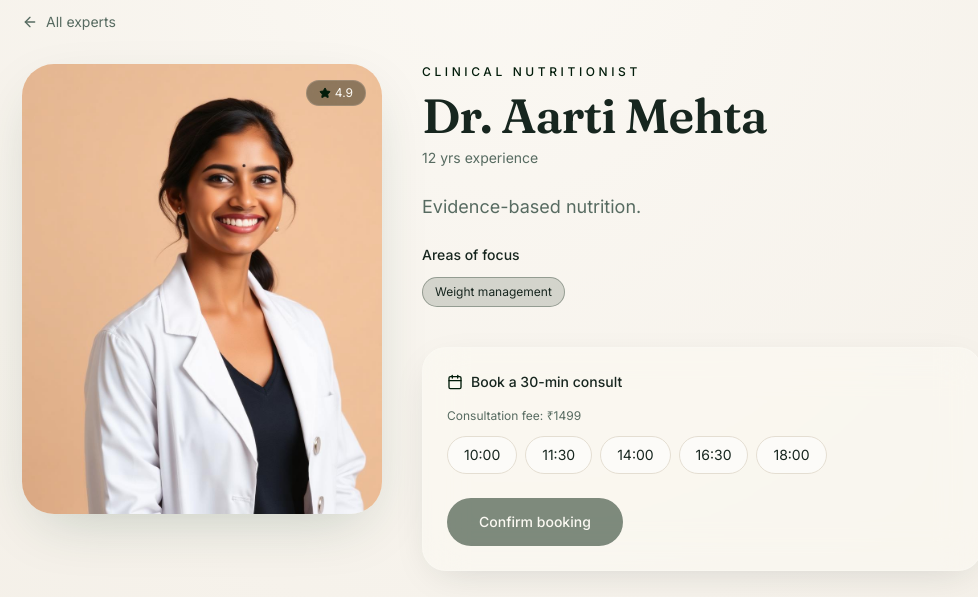
Scenario: ExpertDetail › creates a consultation, opens Razorpay, and verifies payment before showing success
Click the button "10:00" at (482, 455), box x1=447 y1=436 x2=517 y2=474
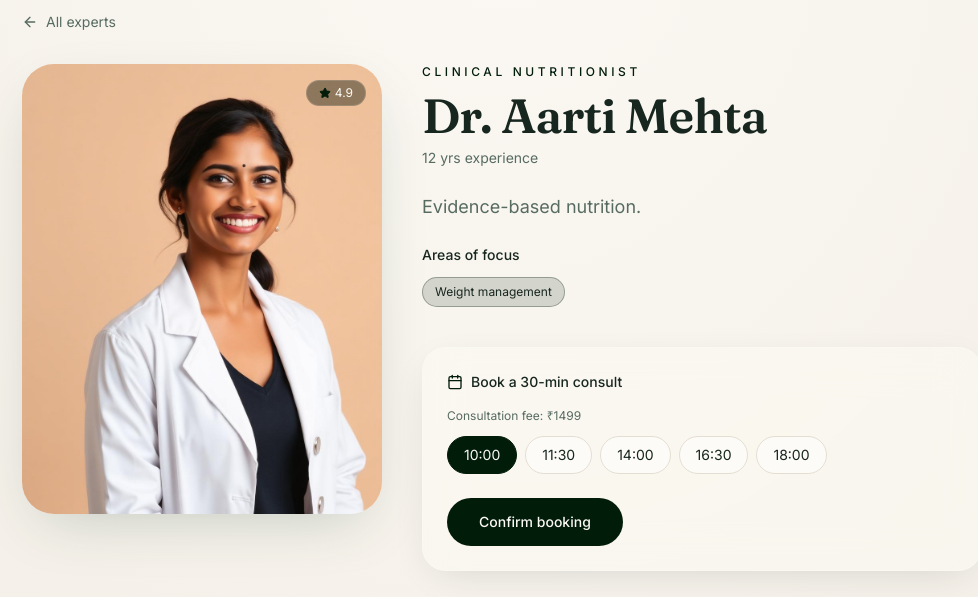
Click the button "Confirm booking" at (535, 522), box x1=447 y1=498 x2=623 y2=546
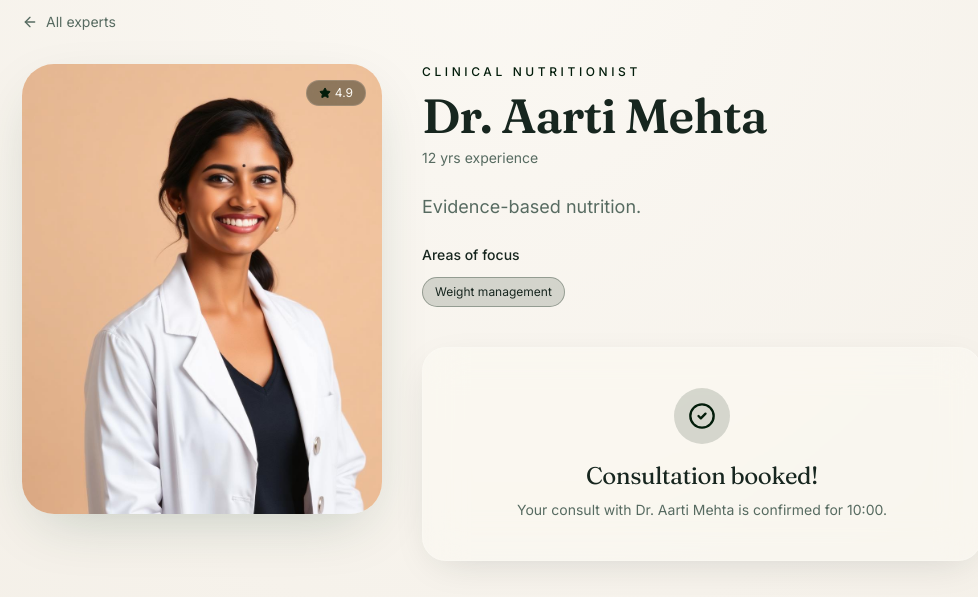
Expected: the heading "Consultation booked!" is shown, x1=586 y1=461 x2=818 y2=490
